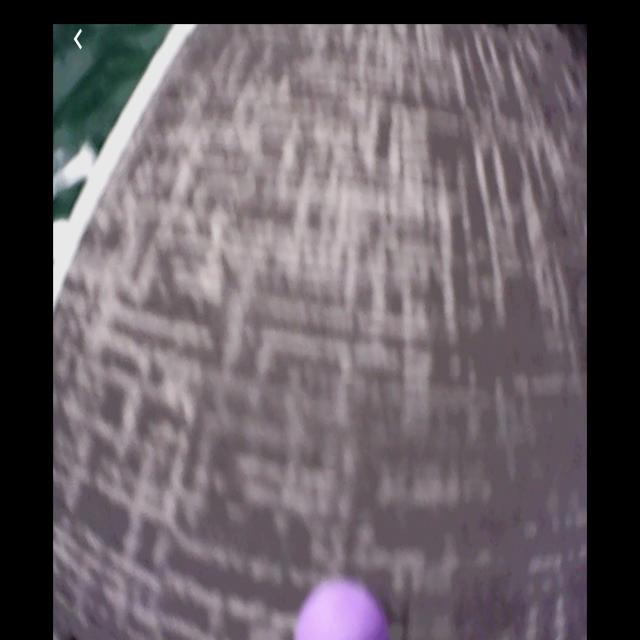ball: (299, 582, 386, 640)
